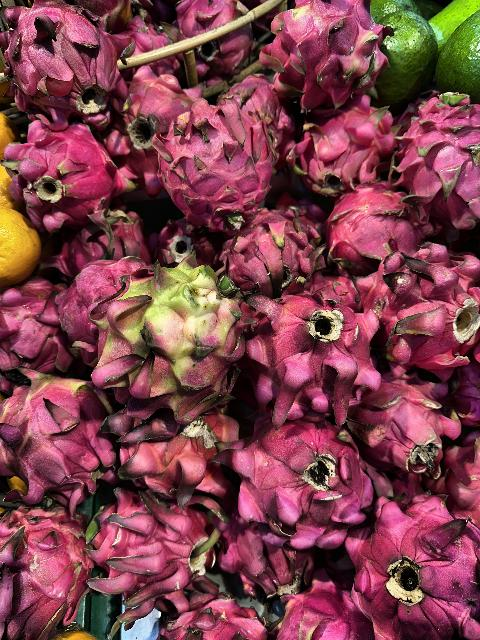buah-naga-belum-matang: (93, 252, 247, 418), (0, 369, 110, 495)
buah-naga-matang: (235, 404, 381, 558), (346, 480, 480, 640), (243, 280, 387, 414), (92, 489, 230, 626), (154, 108, 278, 228), (358, 244, 480, 364), (5, 113, 131, 225), (2, 6, 123, 116), (394, 81, 480, 231), (0, 504, 94, 640), (268, 0, 388, 106), (204, 208, 342, 292), (318, 180, 424, 280), (281, 93, 387, 185), (0, 278, 84, 382)
